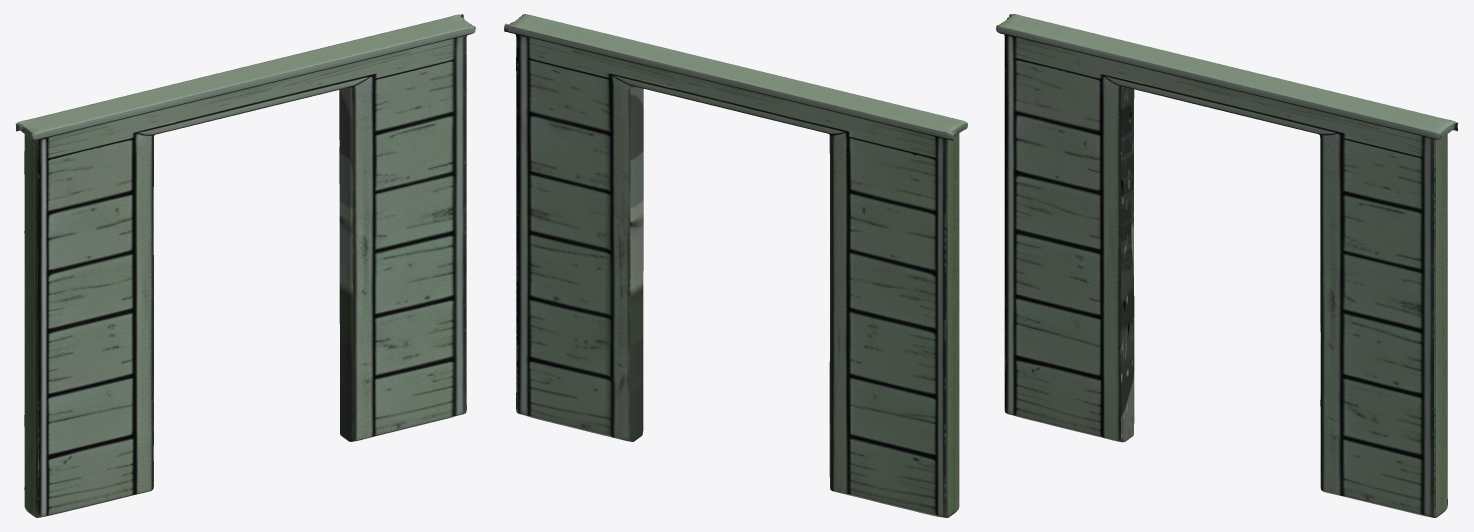
The model's file is Wall-Clapboard-2.glb.
3 renders of one model, left to right at view 1: azimuth 30°, elevation 25°; view 2: azimuth 150°, elevation 25°; view 3: azimuth 330°, elevation 25°, orthographic.
Visible parts, largest first — view 1: tmpc2w4k60p.ply; view 2: tmpc2w4k60p.ply; view 3: tmpc2w4k60p.ply.
Part boxes in pixels (x1,y1,x2,y2): tmpc2w4k60p.ply: (15,14,475,517); tmpc2w4k60p.ply: (504,14,967,517); tmpc2w4k60p.ply: (996,14,1458,517).
Size of the model in its own units: 3 by 2.5 by 0.2.
1 material, 1 textured.
